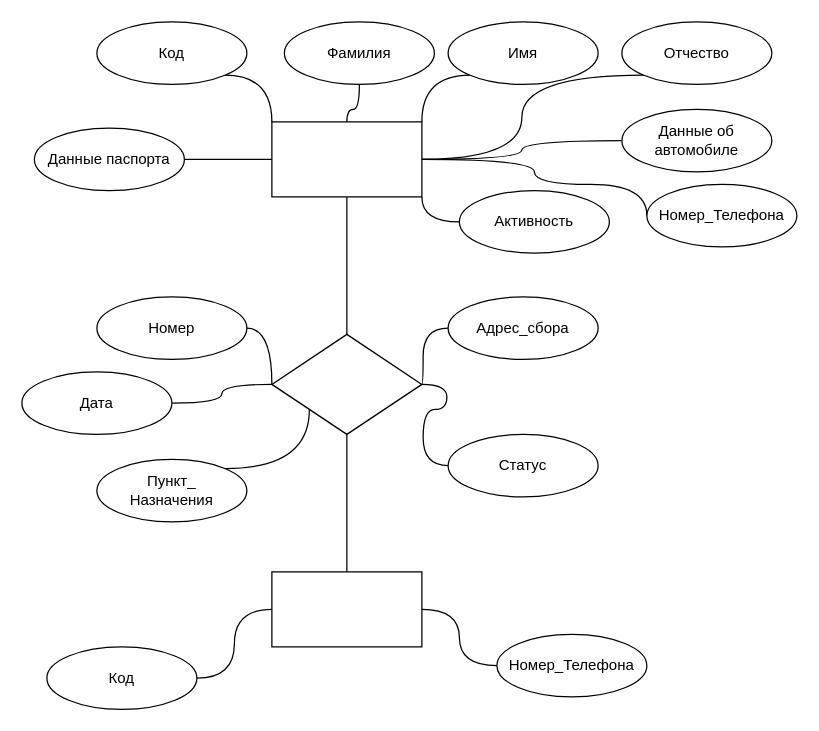
This 819x731 diagram has some shape labels left out. Each missing label, with the box of its shape:
Водитель: (271, 121, 422, 197)
Заказ: (271, 333, 422, 434)
Клиент: (271, 571, 422, 647)
